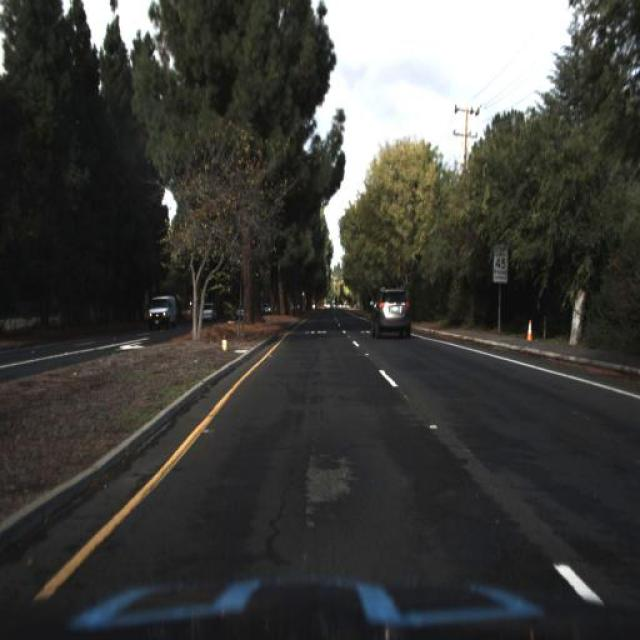car: (371, 288, 412, 339), (142, 285, 180, 334), (147, 294, 176, 327)
